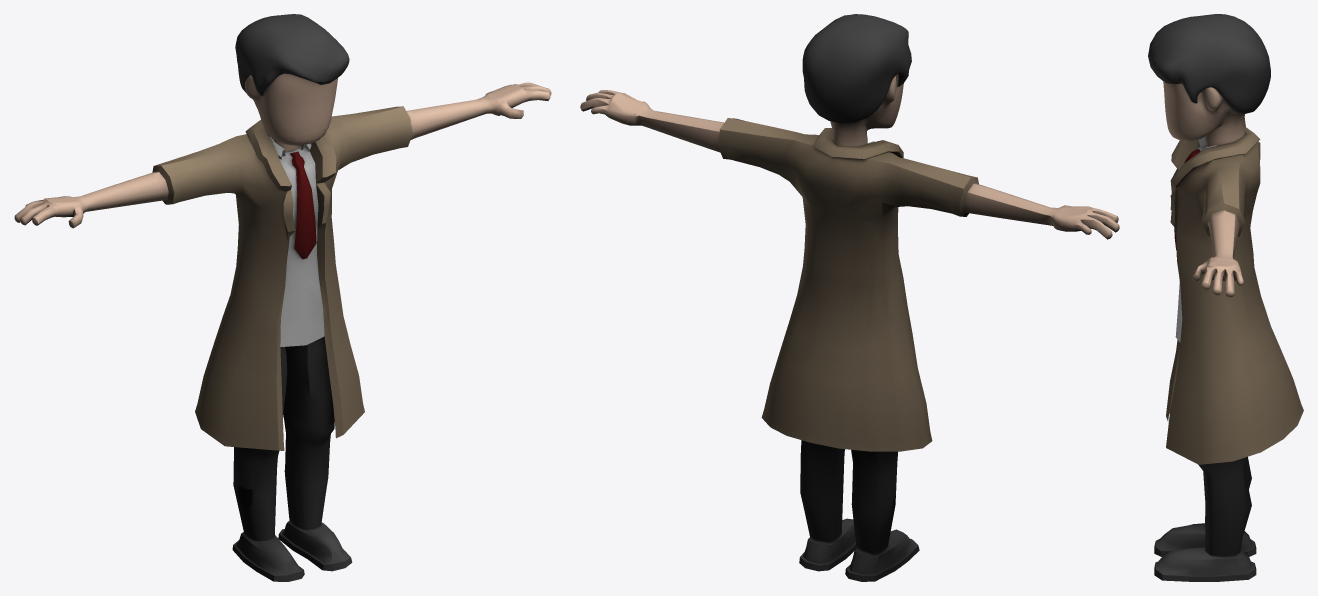
The model's file is Detective.001.fbx.
The picture shows the model from 3 angles, left to right: view 1: azimuth 30°, elevation 25°; view 2: azimuth 150°, elevation 25°; view 3: azimuth 270°, elevation 25°; orthographic projection.
Parts seen in each view (by area): view 1: Detective.001; view 2: Detective.001; view 3: Detective.001.
Part boxes in pixels (left/top/right/bottom): Detective.001: left=14, top=14, right=551, bottom=581; Detective.001: left=580, top=14, right=1119, bottom=581; Detective.001: left=1148, top=14, right=1303, bottom=581.
Size of the model in its own units: 314 by 302 by 79.3.
